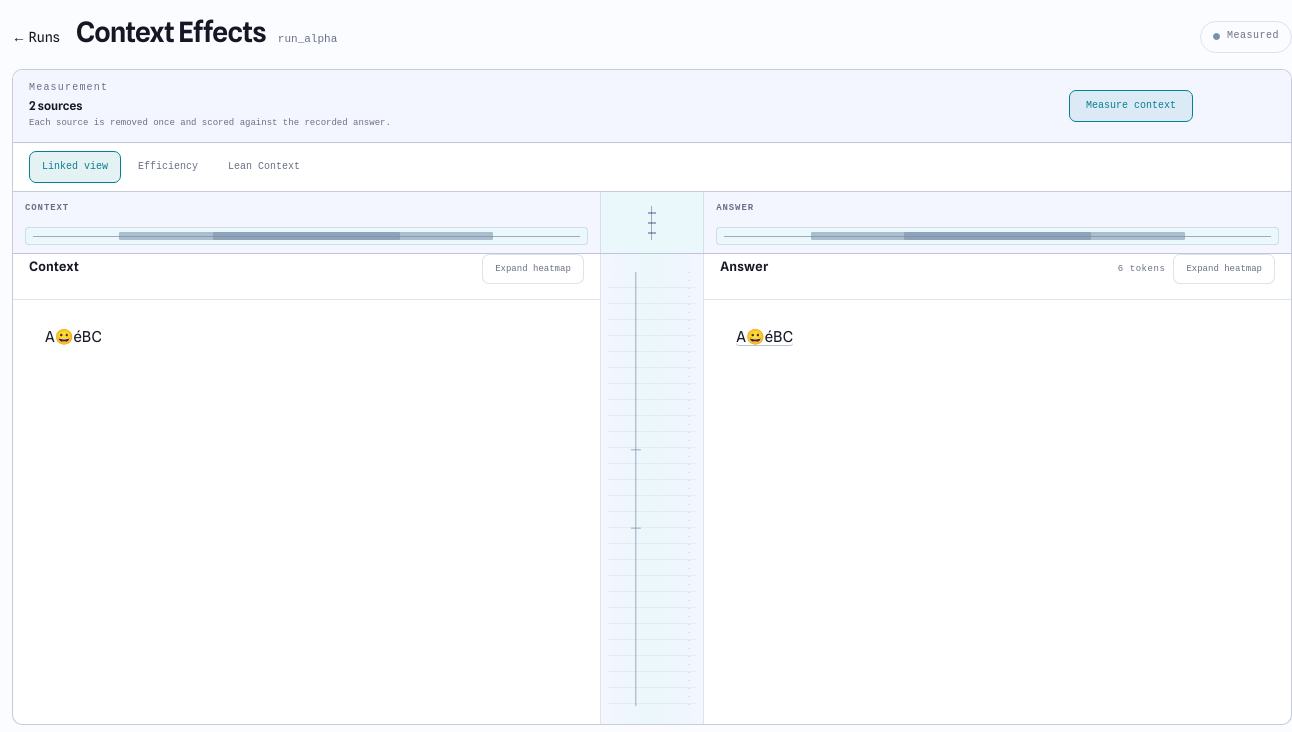
it: Inspect surface › preserves overlapping Unicode source and answer geometry without losing prose
Expected: the element with class "context-block" reads "A😀éBC", [45,328,102,346]
Focus the button with aria-label "A😀éBC; 2 measured relationships" at (765, 337), box [736,328,793,346]
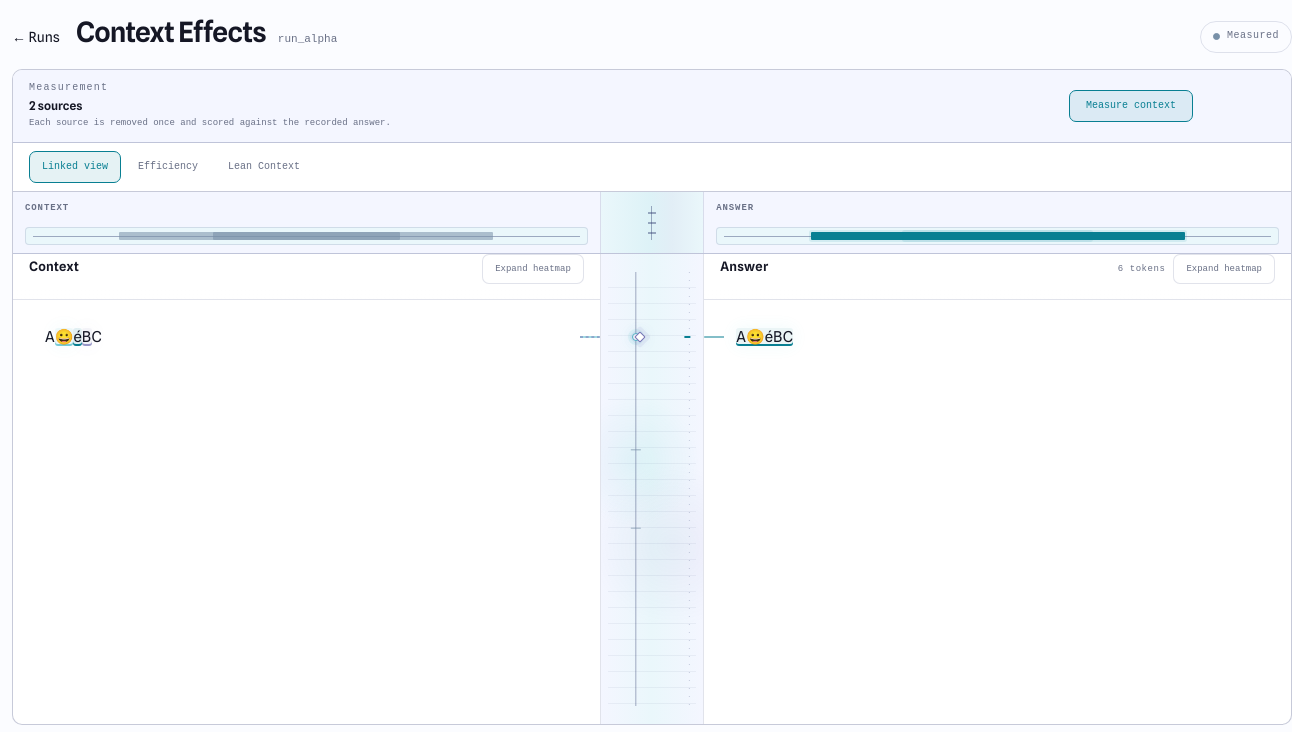
Result: the number of elements with class "map-node" is 2 at [632,333,640,341]; [634,331,645,343]
